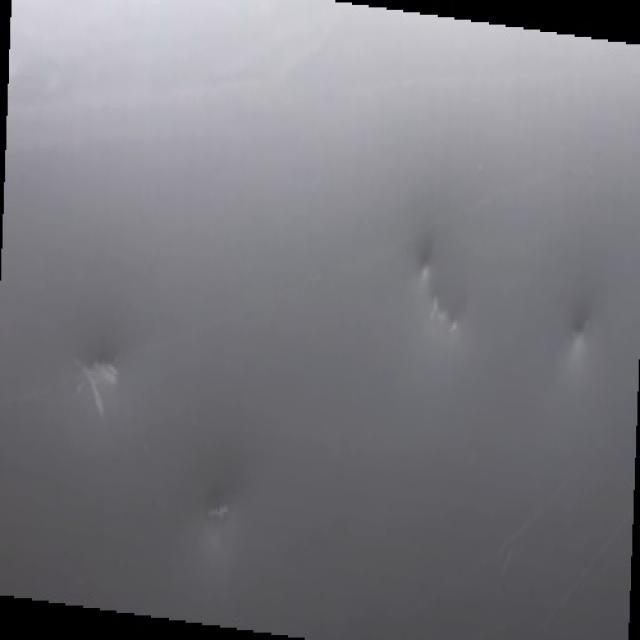dent: (404, 245, 475, 356), (75, 346, 170, 418), (189, 491, 248, 568), (568, 316, 608, 375)
